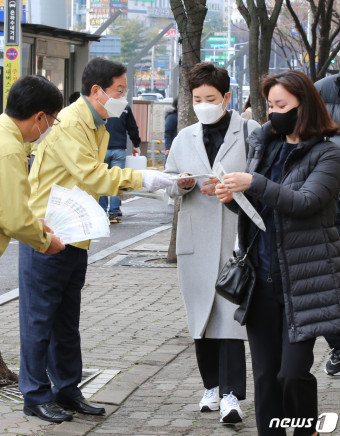mask: (266, 107, 298, 136), (191, 102, 224, 124), (105, 96, 128, 119)
